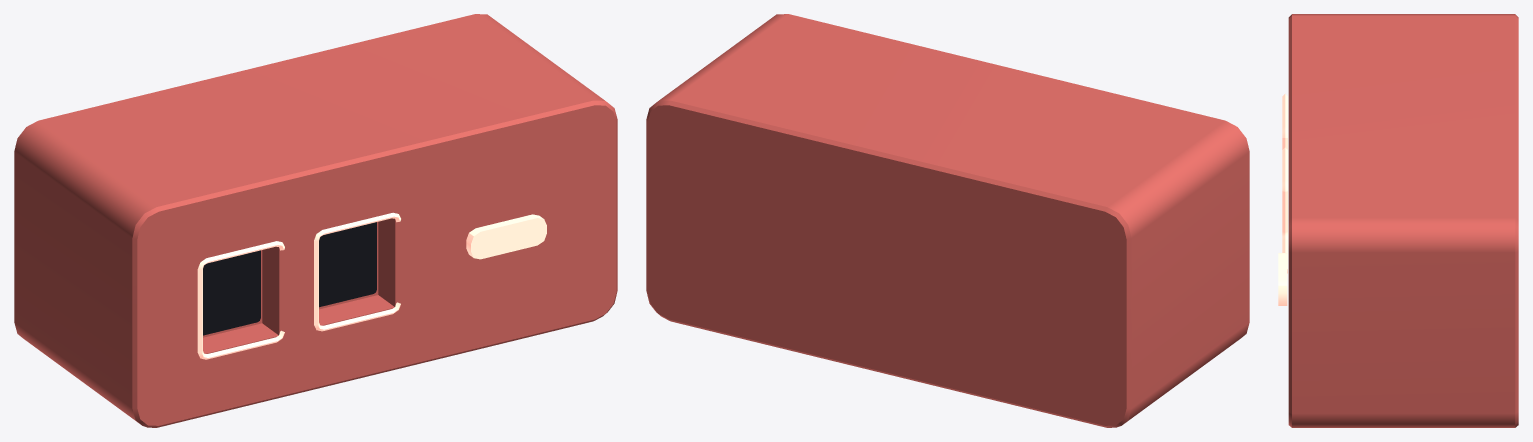
File: pn_ico_firewall_onpremise.glb
3 renders of one model, left to right at view 1: azimuth 30°, elevation 25°; view 2: azimuth 150°, elevation 25°; view 3: azimuth 270°, elevation 25°, orthographic. The views are drawn at different scales.
Parts seen in each view (by area): view 1: pn_ico_firewall_onpremise; view 2: pn_ico_firewall_onpremise; view 3: pn_ico_firewall_onpremise.
Boxes of the visible parts, x1,y1,x2,y2 form: pn_ico_firewall_onpremise: (14,14,617,427); pn_ico_firewall_onpremise: (646,14,1249,427); pn_ico_firewall_onpremise: (1278,14,1518,427).
Bounding box in the file's own units: 0.46 × 0.2 × 0.209.
